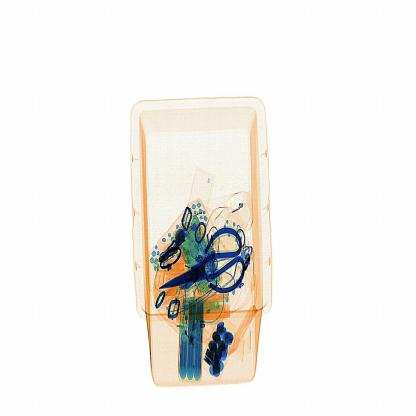gun: (154, 218, 256, 305)
